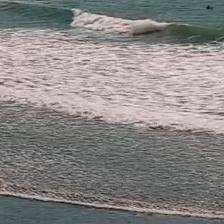surfer: (205, 5, 212, 10)
